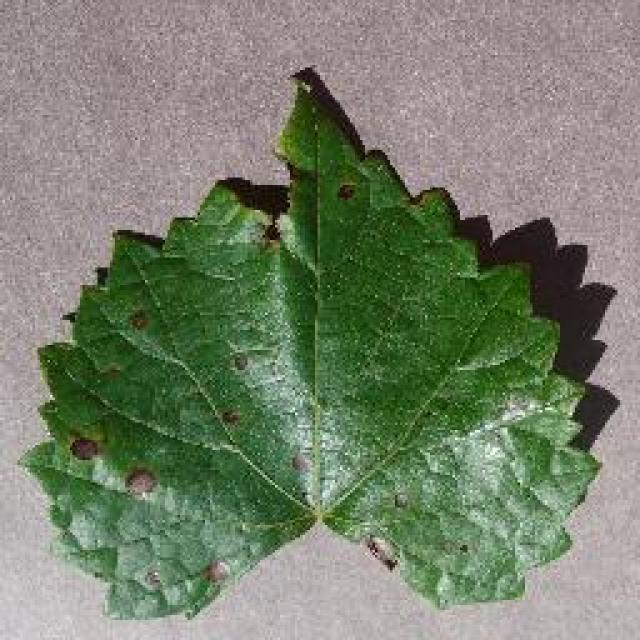Grape___Black_rot: (8, 69, 604, 626)
